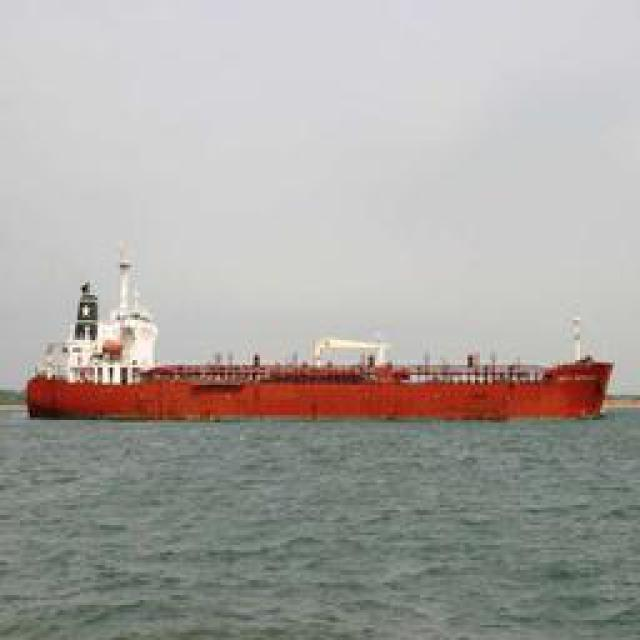Ship: (30, 307, 615, 425)
